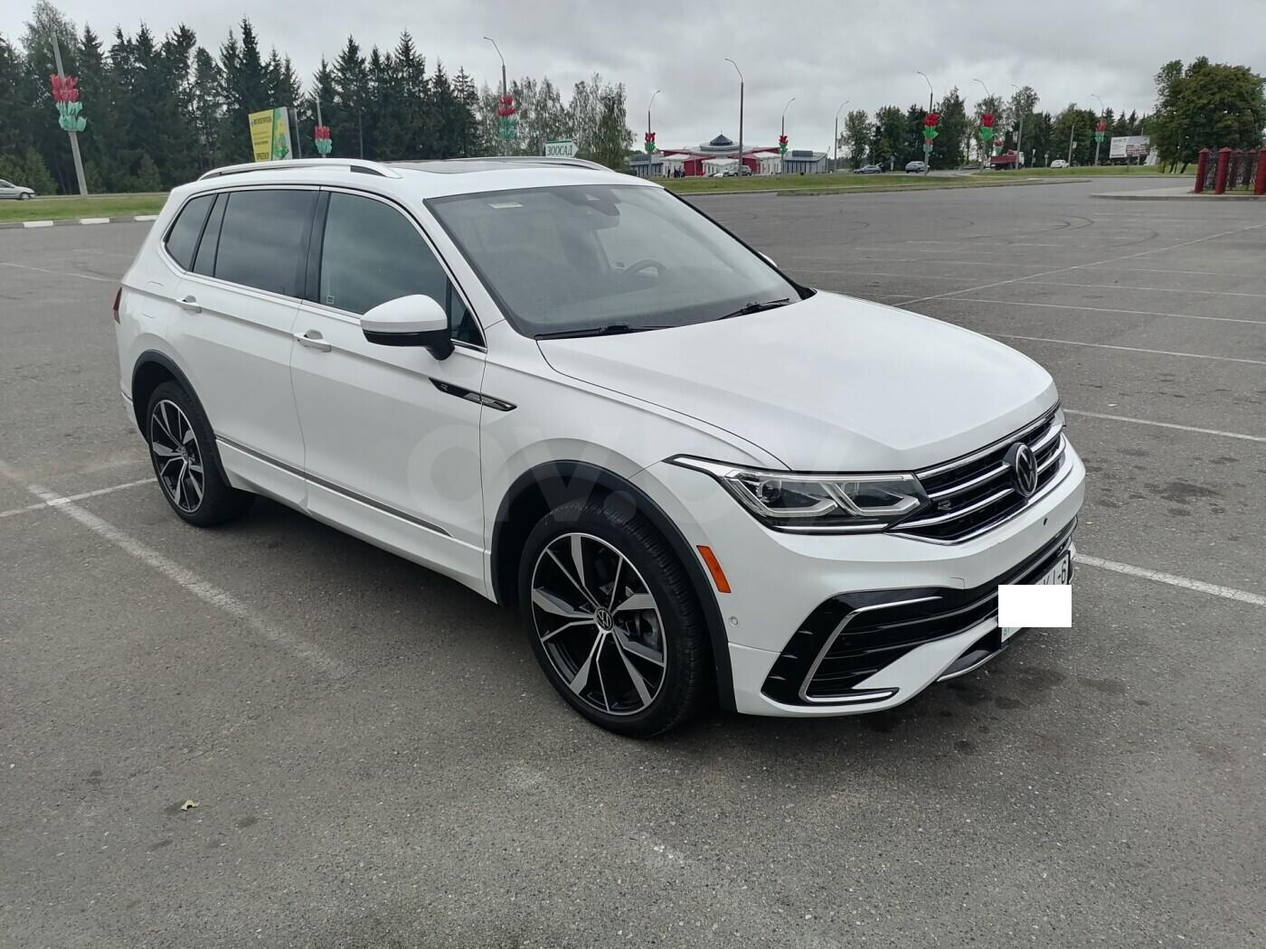Tiguan_2020-2024: (109, 147, 1088, 737)
